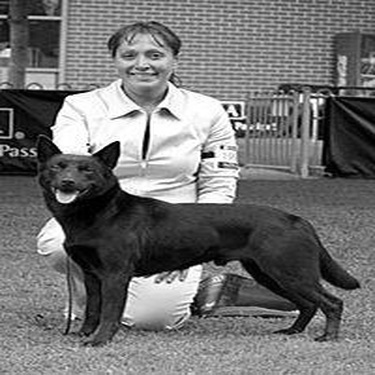dog: (30, 127, 365, 353)
